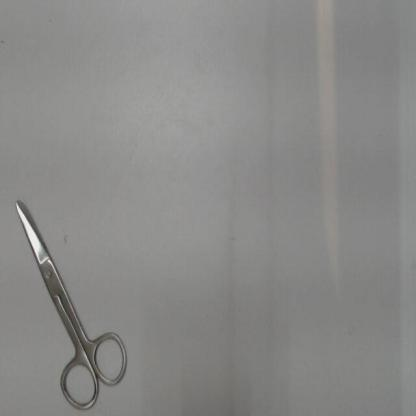Dressing Scissors: (4, 186, 134, 415)
